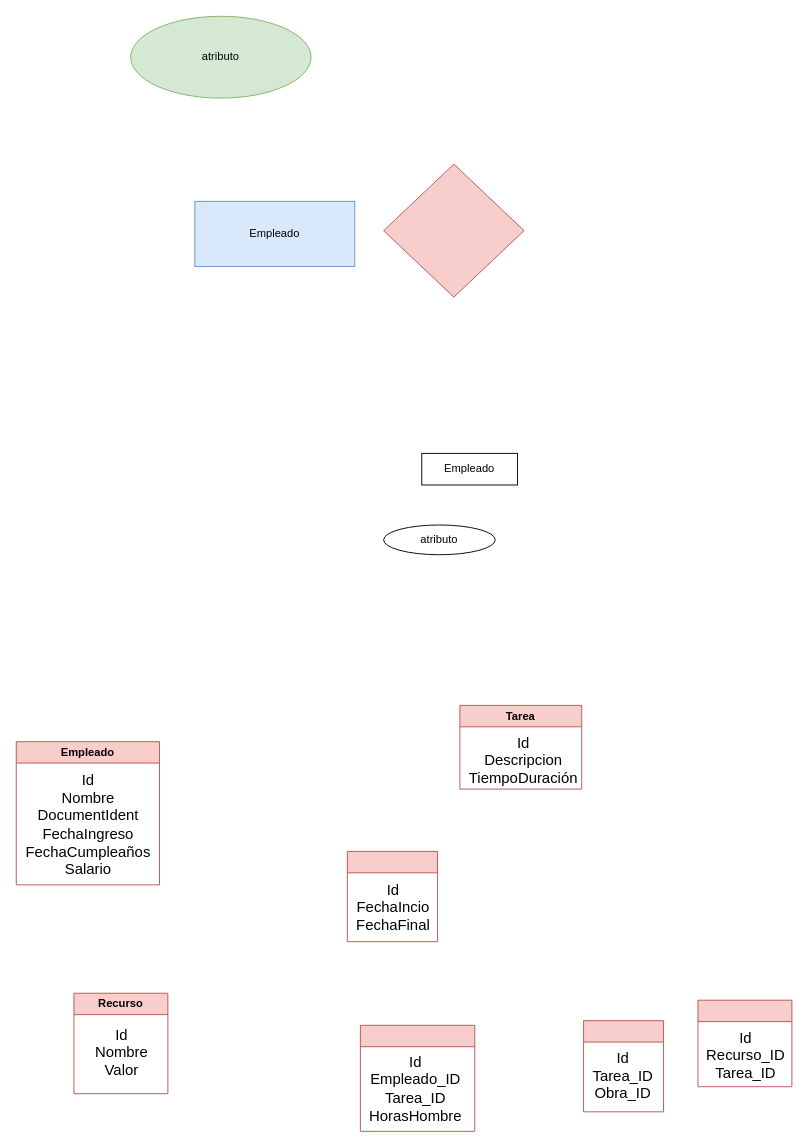
Image size: 809x1148. Some labels were removed from this diagram. The shapes that lost their labels are listed below. From the top down, each one's box as (x1, y1, x2, y2) in pixels, then its label:
(346, 850, 438, 942): Obra
(697, 999, 792, 1087): RecursoTarea
(359, 1024, 475, 1131): AsignaciónTarea
(583, 1020, 664, 1112): TareaObra
